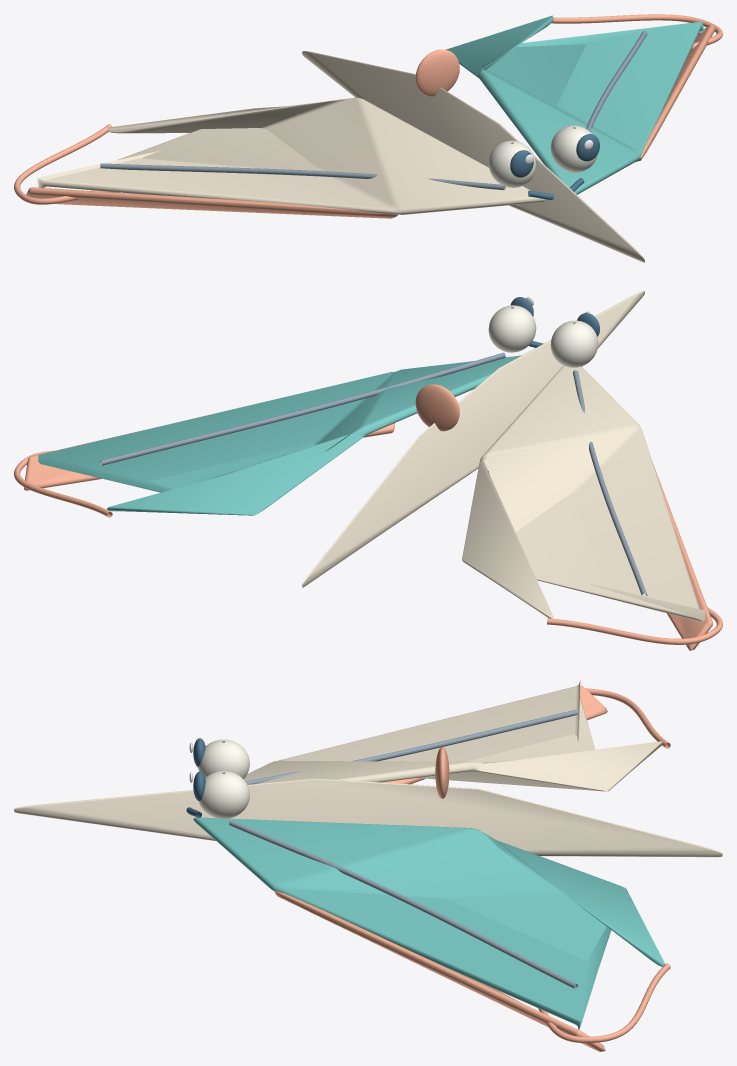
File: E02-PaperPlane-R57-Refined-STUDY.glb
The picture shows the model from 3 angles, top to bottom: view 1: azimuth 30°, elevation 25°; view 2: azimuth 150°, elevation 25°; view 3: azimuth 270°, elevation 25°; orthographic projection. The views are drawn at different scales.
Visible parts, largest first — view 1: E02 left folded outer wing, E02 right folded outer wing, E02 double ridge fuselage, E02 -1 wing return lip, E02 -1 embossed crease 1, E02 spring ring logo, E02 1 eyeball, E02 -1 eyeball, E02 1 wing return lip, E02 1 wing-tip piping, E02 -1 wing-tip piping, E02 1 embossed crease 1 (+2 smaller); view 2: E02 left folded outer wing, E02 right folded outer wing, E02 double ridge fuselage, E02 1 embossed crease 1, E02 1 eyeball, E02 -1 eyeball, E02 spring ring logo, E02 1 wing return lip, E02 -1 wing return lip, E02 -1 wing-tip piping, E02 -1 embossed crease 1, E02 1 wing-tip piping; view 3: E02 right folded outer wing, E02 double ridge fuselage, E02 left folded outer wing, E02 1 wing return lip, E02 1 embossed crease 1, E02 1 eyeball, E02 -1 embossed crease 1, E02 -1 eyeball, E02 1 wing-tip piping, E02 -1 wing-tip piping, E02 -1 wing return lip, E02 spring ring logo.
Part boxes in pixels (box(x1,y1,x2,y2)): E02 left folded outer wing: box(36, 97, 545, 214); E02 right folded outer wing: box(446, 15, 704, 194); E02 double ridge fuselage: box(302, 51, 644, 262); E02 -1 wing return lip: box(26, 187, 397, 218); E02 -1 embossed crease 1: box(100, 163, 505, 190); E02 spring ring logo: box(415, 49, 459, 96); E02 1 eyeball: box(550, 125, 597, 172); E02 -1 eyeball: box(488, 140, 536, 187); E02 1 wing return lip: box(636, 25, 715, 161); E02 1 wing-tip piping: box(551, 14, 722, 50); E02 -1 wing-tip piping: box(14, 124, 118, 204); E02 1 embossed crease 1: box(586, 31, 647, 131); E02 left folded outer wing: box(462, 365, 704, 621); E02 right folded outer wing: box(38, 355, 521, 515); E02 double ridge fuselage: box(302, 291, 644, 587); E02 1 embossed crease 1: box(100, 352, 505, 465); E02 1 eyeball: box(488, 305, 536, 352); E02 -1 eyeball: box(550, 320, 598, 367); E02 spring ring logo: box(415, 384, 459, 431); E02 1 wing return lip: box(24, 423, 394, 490); E02 -1 wing return lip: box(653, 464, 712, 650); E02 -1 wing-tip piping: box(547, 607, 722, 644); E02 -1 embossed crease 1: box(573, 370, 647, 595); E02 1 wing-tip piping: box(14, 450, 112, 517); E02 right folded outer wing: box(193, 817, 665, 1029); E02 double ridge fuselage: box(14, 778, 722, 857); E02 left folded outer wing: box(243, 679, 662, 791); E02 1 wing return lip: box(274, 890, 605, 1051); E02 1 embossed crease 1: box(229, 820, 577, 988); E02 1 eyeball: box(198, 771, 249, 818); E02 -1 embossed crease 1: box(245, 710, 577, 784); E02 -1 eyeball: box(198, 739, 249, 778); E02 1 wing-tip piping: box(538, 963, 670, 1042); E02 -1 wing-tip piping: box(585, 688, 670, 748); E02 -1 wing return lip: box(381, 685, 607, 784); E02 spring ring logo: box(435, 747, 449, 798).
Bounding box in the file's own units: 2.36 × 0.4201 × 2.01.
